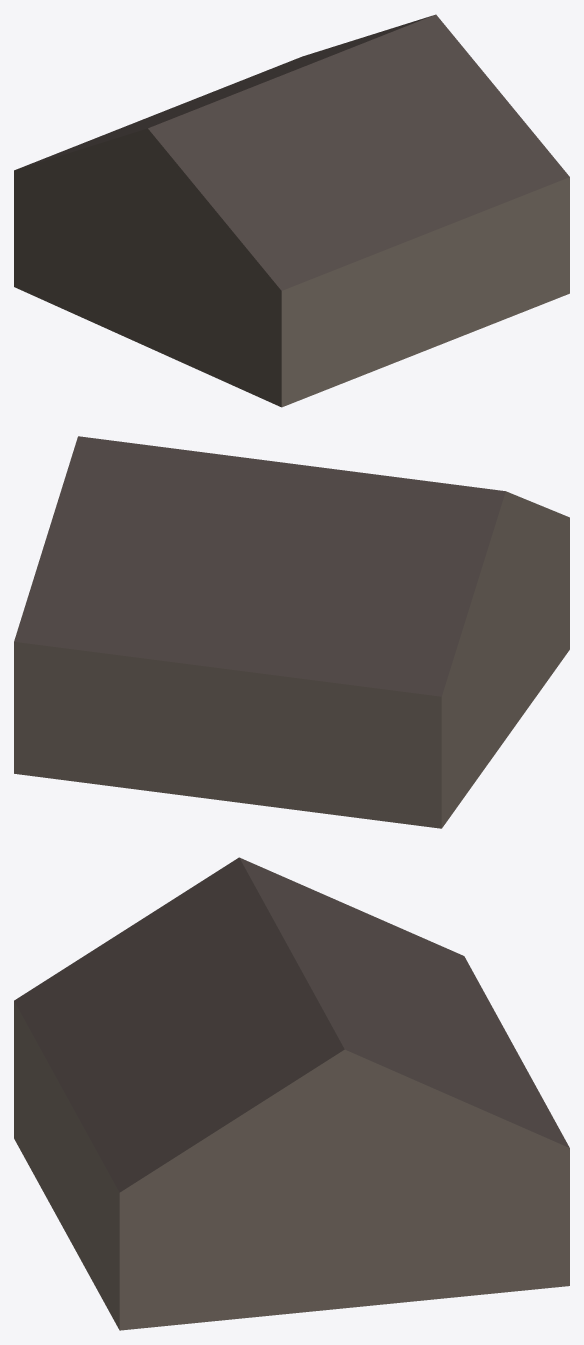
3 views of the same model, one above another, from view 1: azimuth 30°, elevation 25°; view 2: azimuth 150°, elevation 25°; view 3: azimuth 270°, elevation 25° (orthographic). The views are drawn at different scales.
Visible parts, largest first — view 1: HP-w859457328; view 2: HP-w859457328; view 3: HP-w859457328.
Part boxes in pixels (<box>): HP-w859457328: <box>14,14,569,407</box>; HP-w859457328: <box>14,436,569,828</box>; HP-w859457328: <box>14,857,569,1330</box>.
Bounding box in the file's own units: 22.11 × 11.27 × 21.94.
